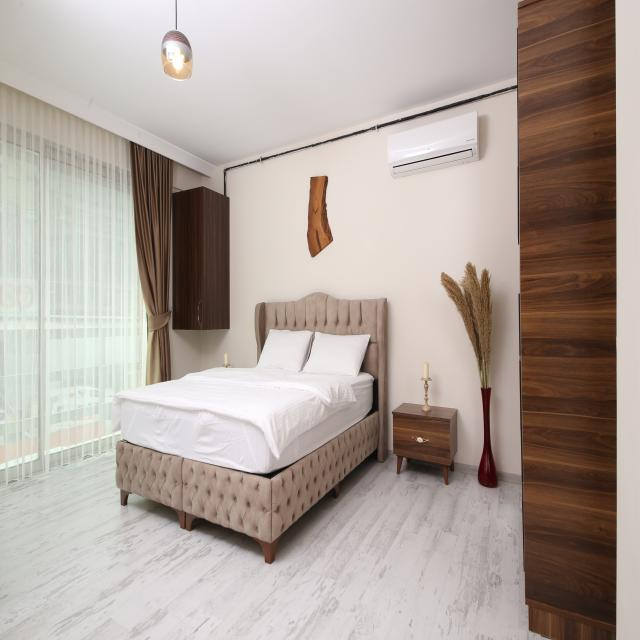floor: (0, 445, 554, 640)
wall: (201, 78, 522, 476), (517, 0, 616, 640), (615, 0, 640, 640), (388, 111, 480, 214), (168, 196, 201, 400), (172, 161, 202, 193)
